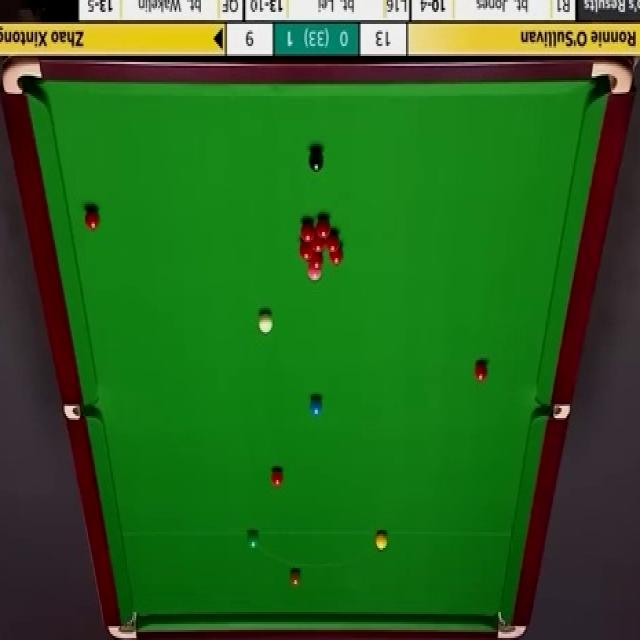black-ball: (307, 150, 324, 173)
blue-ball: (309, 394, 323, 418)
brown-ball: (288, 567, 302, 587)
green-ball: (247, 530, 260, 551)
pink-ball: (308, 263, 321, 280)
red-ball: (85, 205, 100, 232), (474, 360, 489, 383), (308, 234, 323, 256), (270, 466, 284, 489), (317, 215, 330, 238), (301, 221, 315, 242), (329, 246, 342, 266), (327, 232, 339, 253), (296, 242, 309, 261), (310, 254, 323, 265)
white-ball: (257, 309, 275, 335)
yellow-ball: (376, 532, 388, 550)
